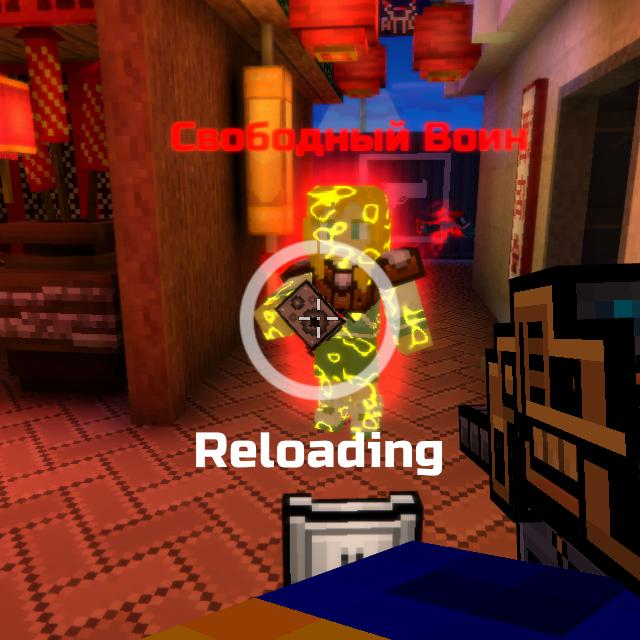Enemy: (251, 187, 424, 444)
